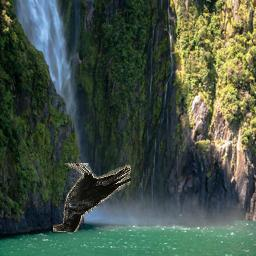Crow: (53, 164, 131, 233)
